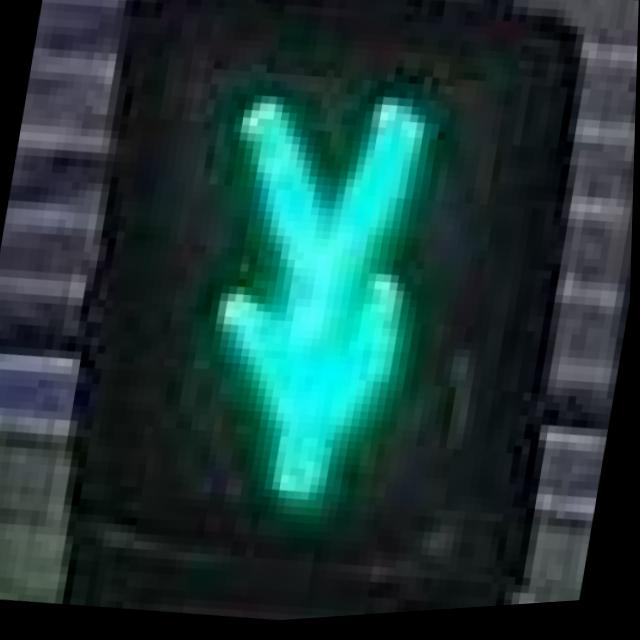green_light: (163, 77, 452, 544)
